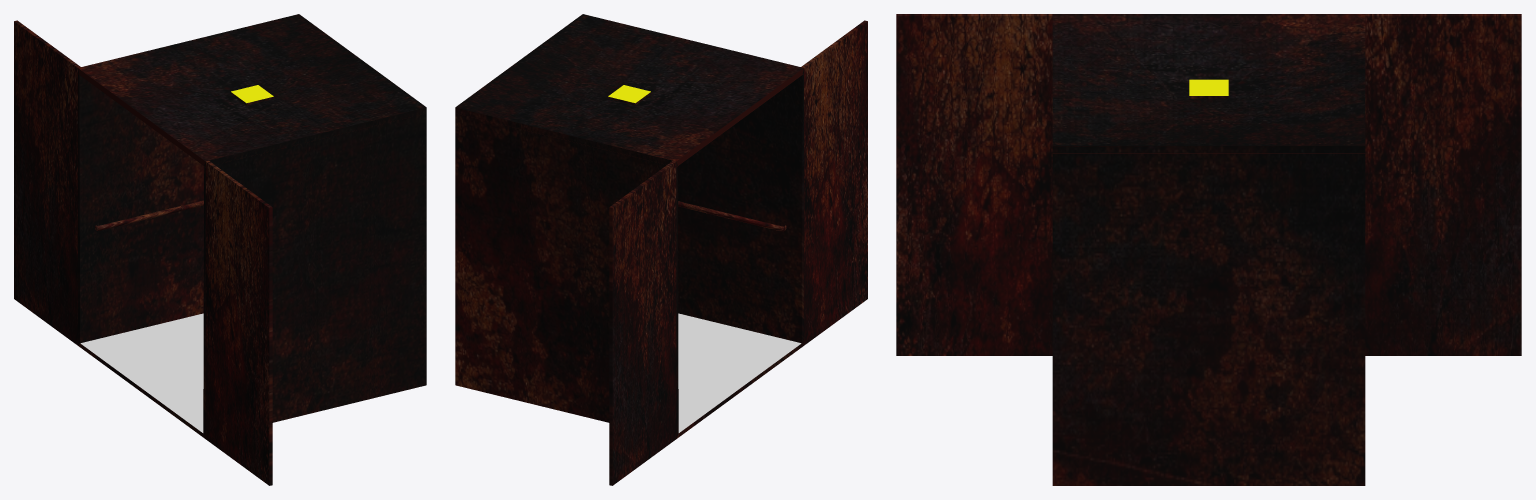
Rendered from Henry's Lift.fbx.
The picture shows the model from 3 angles, left to right: view 1: azimuth 30°, elevation 25°; view 2: azimuth 150°, elevation 25°; view 3: azimuth 270°, elevation 25°; orthographic projection. The views are drawn at different scales.
Visible parts, largest first — view 1: Elevator Box, Right Door, Left Door, Left handrail; view 2: Elevator Box, Left Door, Right Door, Left handrail.001; view 3: Elevator Box, Left Door, Right Door.
Part boxes in pixels (box(x1,y1,x2,y2)): Elevator Box: box(78, 14, 426, 438); Right Door: box(205, 160, 272, 485); Left Door: box(14, 20, 80, 345); Left handrail: box(95, 200, 203, 230); Elevator Box: box(455, 14, 803, 438); Left Door: box(609, 160, 676, 485); Right Door: box(801, 20, 867, 345); Left handrail.001: box(678, 201, 786, 231); Elevator Box: box(1052, 14, 1365, 485); Left Door: box(1365, 14, 1521, 355); Right Door: box(896, 14, 1052, 355).
Size of the model in its own units: 2 by 2.4 by 4.
